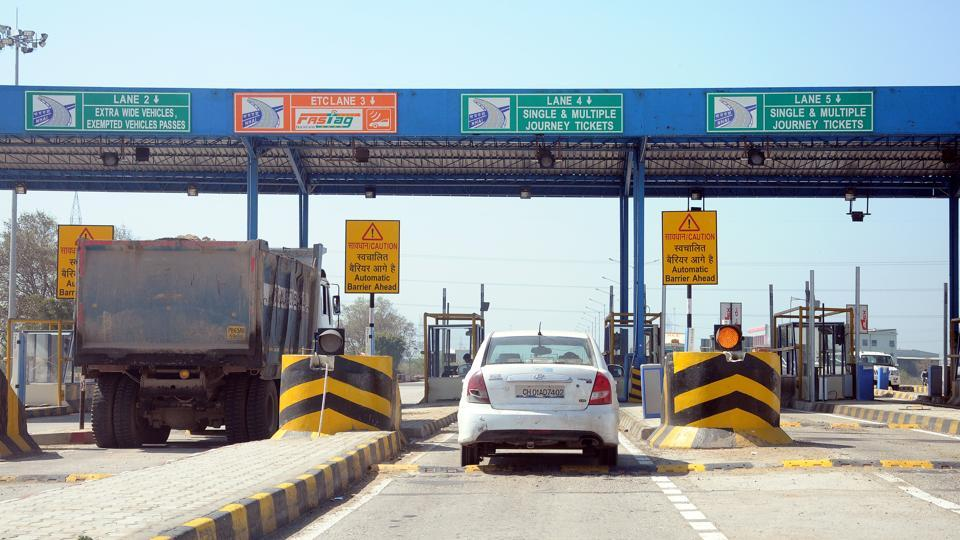toll plaza: (401, 59, 960, 464)
